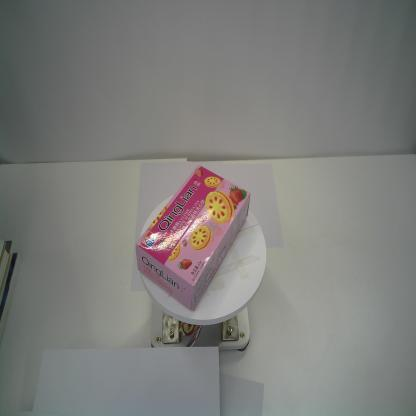Dessert: (135, 165, 251, 314)
